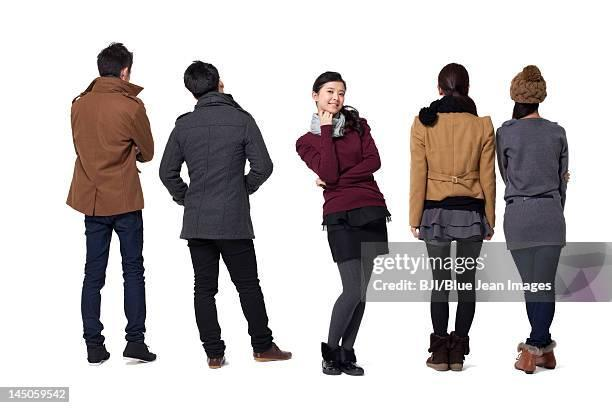coat: (156, 92, 274, 240)
dress: (494, 116, 571, 250)
jacket: (64, 77, 155, 215), (405, 107, 497, 228)
skirt: (320, 207, 389, 261), (416, 206, 494, 246)
sweater: (293, 117, 389, 212)
trousers: (187, 235, 275, 358), (80, 209, 147, 347), (505, 244, 562, 349)
